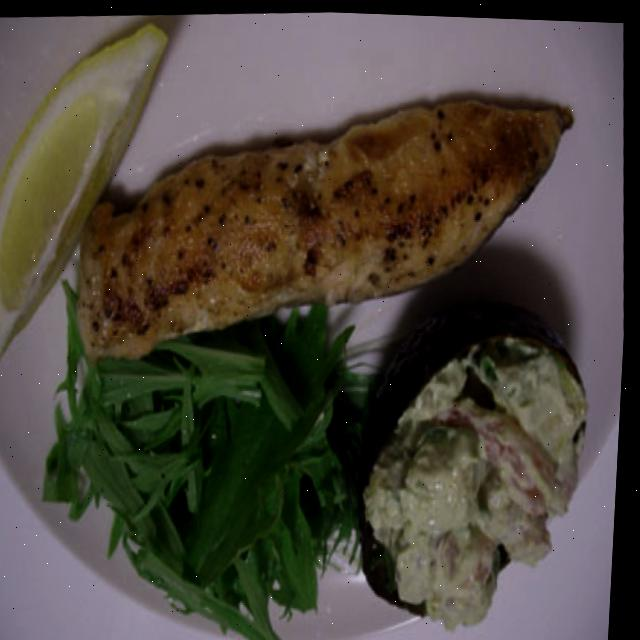熟制海鲜: (44, 63, 601, 398)
